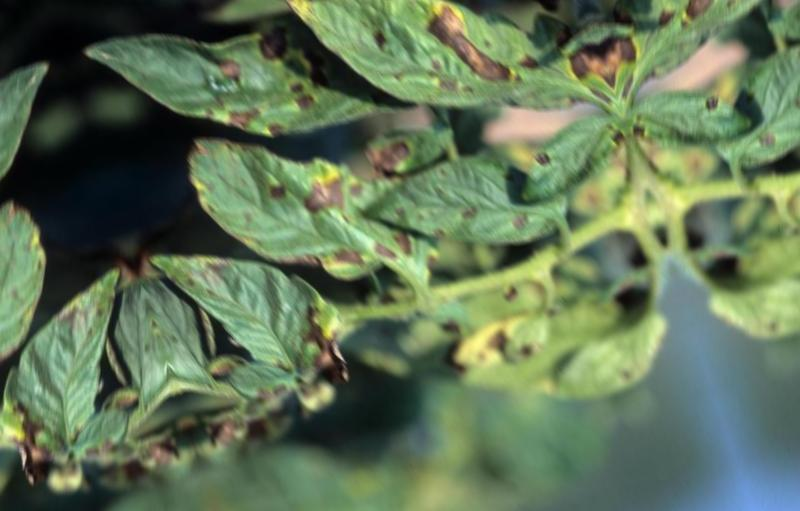Tomato Early blight leaf: (85, 0, 387, 180), (289, 0, 590, 180), (199, 89, 427, 323), (350, 125, 574, 290)
